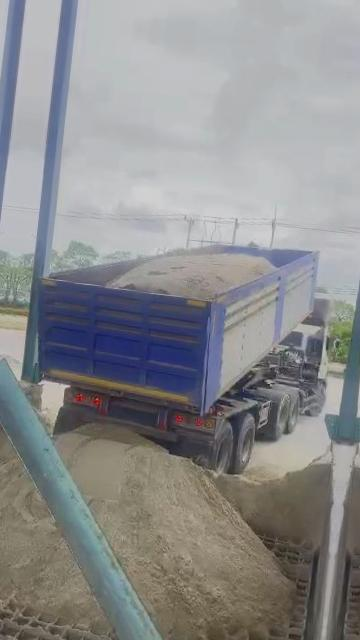sand: (57, 427, 292, 640), (0, 459, 109, 631), (214, 454, 330, 547), (107, 254, 275, 299), (20, 380, 53, 433), (0, 419, 15, 464)
